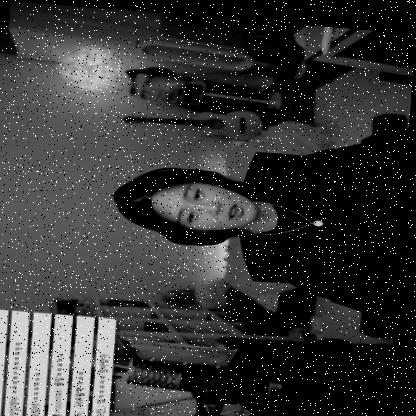streamer: (107, 98, 411, 316)
